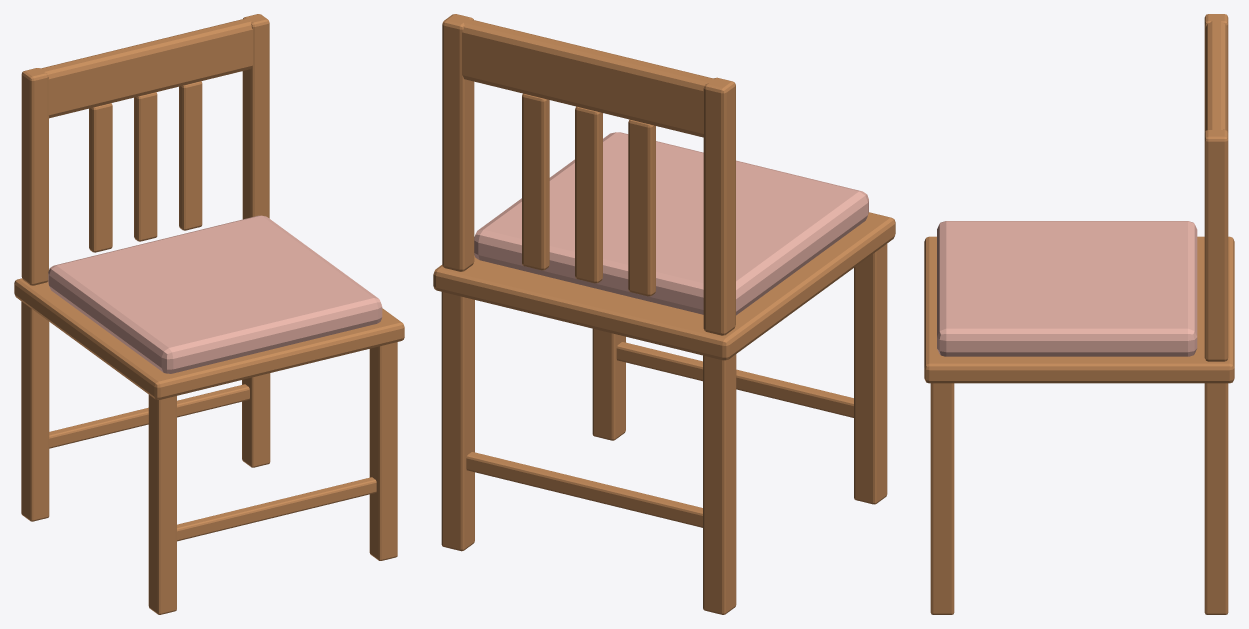
The model's file is hh_cat_bedroom_chair.glb.
3 renders of one model, left to right at view 1: azimuth 30°, elevation 25°; view 2: azimuth 150°, elevation 25°; view 3: azimuth 270°, elevation 25°, orthographic. The views are drawn at different scales.
Visible parts, largest first — view 1: cushion, back_rail, seat, leg, leg.002, leg.001, back_post, back_post.001, back_slat, back_slat.001, back_slat.002, stretcher (+2 smaller); view 2: cushion, seat, back_rail, leg.001, leg.003, leg, back_post, back_post.001, stretcher.001, back_slat.001, back_slat, back_slat.002 (+2 smaller); view 3: cushion, seat, leg.002, leg.003, back_post.001, back_rail, back_post.
Boxes of the visible parts, left/top/right/bottom form: cushion: left=48, top=215, right=382, bottom=373; back_rail: left=23, top=16, right=261, bottom=118; seat: left=14, top=278, right=404, bottom=399; leg: left=148, top=395, right=176, bottom=614; leg.002: left=369, top=342, right=397, bottom=560; leg.001: left=21, top=301, right=49, bottom=521; back_post: left=21, top=68, right=48, bottom=285; back_post.001: left=242, top=14, right=269, bottom=219; back_slat: left=89, top=103, right=112, bottom=252; back_slat.001: left=134, top=92, right=157, bottom=241; back_slat.002: left=179, top=81, right=202, bottom=230; stretcher: left=177, top=477, right=376, bottom=541; cushion: left=474, top=132, right=868, bottom=315; seat: left=433, top=212, right=895, bottom=360; back_rail: left=451, top=16, right=733, bottom=137; leg.001: left=703, top=354, right=736, bottom=614; leg.003: left=441, top=292, right=474, bottom=551; leg: left=854, top=244, right=887, bottom=504; back_post: left=703, top=77, right=735, bottom=335; back_post.001: left=442, top=14, right=474, bottom=271; stretcher.001: left=466, top=452, right=702, bottom=527; back_slat.001: left=575, top=106, right=602, bottom=283; back_slat: left=628, top=119, right=655, bottom=296; back_slat.002: left=522, top=93, right=549, bottom=270; cushion: left=937, top=221, right=1197, bottom=356; seat: left=924, top=236, right=1234, bottom=383; leg.002: left=930, top=383, right=954, bottom=614; leg.003: left=1204, top=383, right=1228, bottom=614; back_post.001: left=1204, top=129, right=1228, bottom=361; back_rail: left=1205, top=15, right=1227, bottom=182; back_post: left=1204, top=14, right=1228, bottom=132.
Size of the model in its own units: 0.5 by 0.85 by 0.5.
